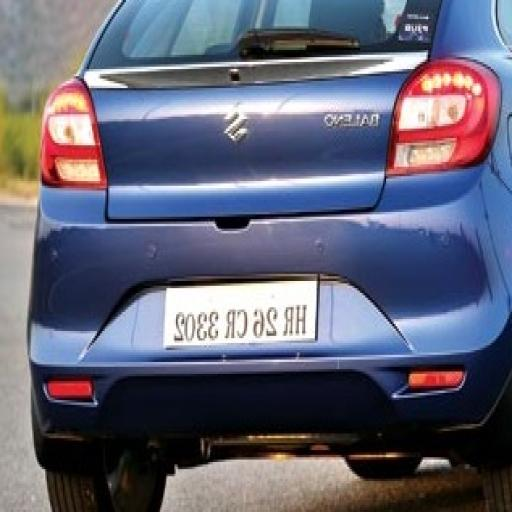License: (165, 274, 321, 343)
